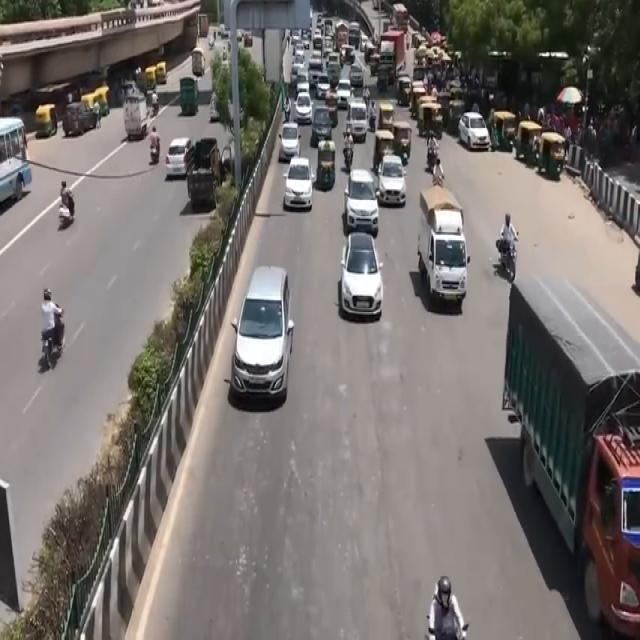BUS: (0, 114, 30, 221)
MOTORCYCLE: (342, 144, 355, 178)
TRUCK: (513, 272, 639, 638), (418, 188, 469, 312)
